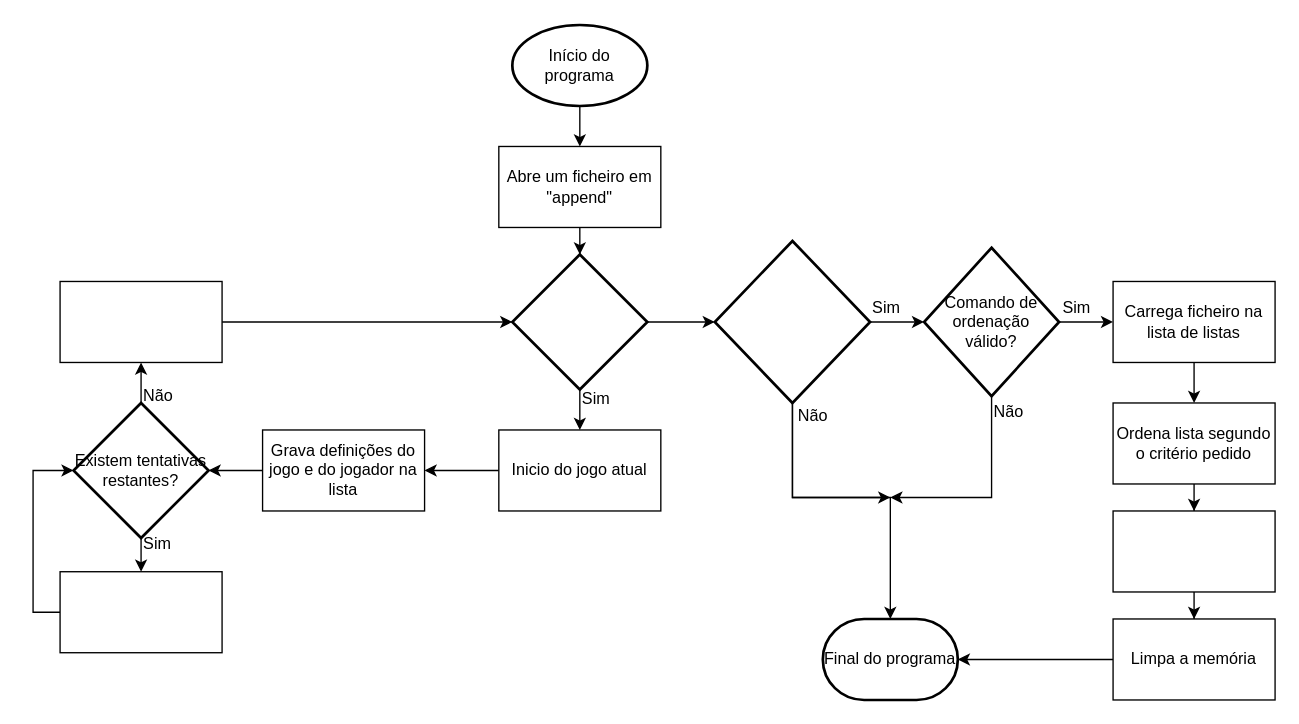
Some shapes in this 1299 by 724 pixel diagram are drawn without their labels. Here are the shapes that lost their labels. From the top down, the centre of each, then its label:
point 140,321: Grava chave na lista e no ficheiro se acerta, "-" se não acertou
point 579,321: Ha jogos restantes?
point 792,321: Tem de ordenar ficheiro?
point 1193,551: Escreve no ficheiro
point 140,611: Grava tentativa na lista e no ficheiro
